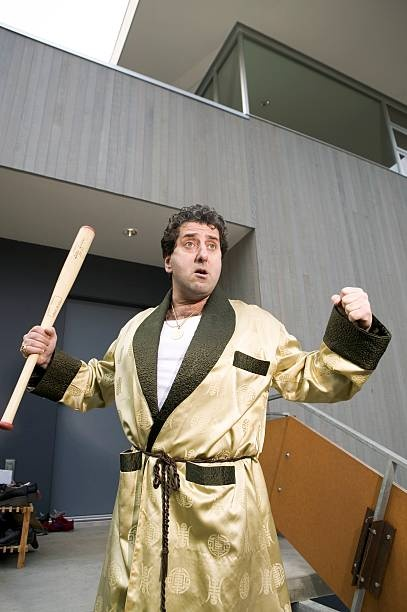bita: (1, 223, 97, 428)
